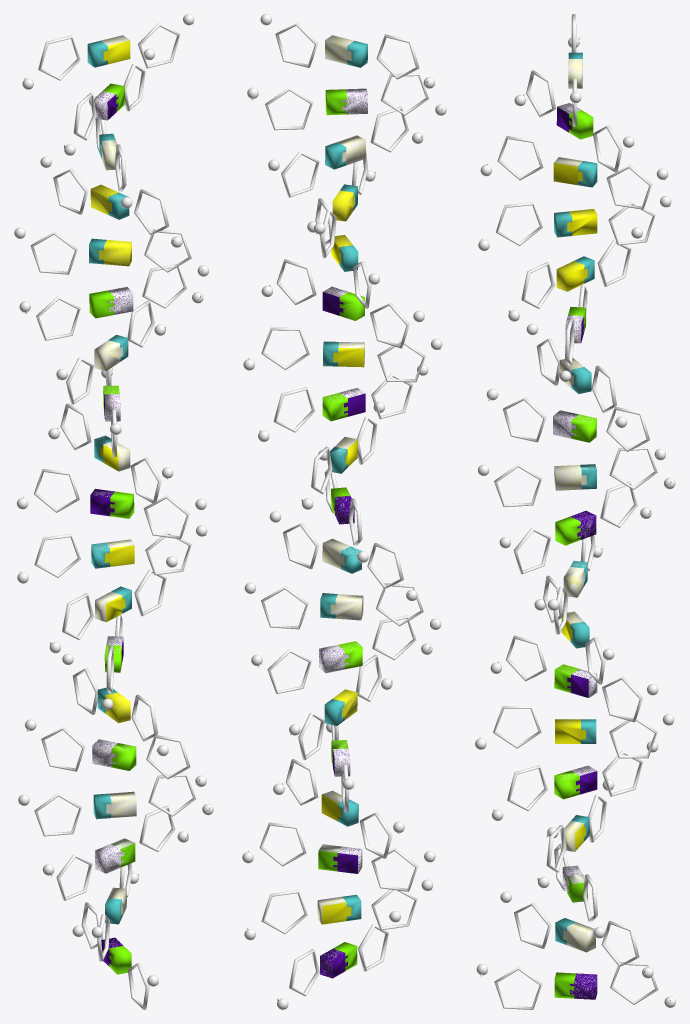
The model's file is dna.dae.
3 renders of one model, left to right at view 1: azimuth 30°, elevation 25°; view 2: azimuth 150°, elevation 25°; view 3: azimuth 270°, elevation 25°, orthographic.
Parts seen in each view (by area): view 1: Group_1 (×18); view 2: Group_1 (×18); view 3: Group_1 (×19).
Part boxes in pixels (x1,y1,x2,y2): Group_1 (×18): (89,35,136,974); Group_1 (×18): (317,35,367,978); Group_1 (×19): (553,110,597,999).
Size of the model in its own units: 1.65 by 1.61 by 8.52.
